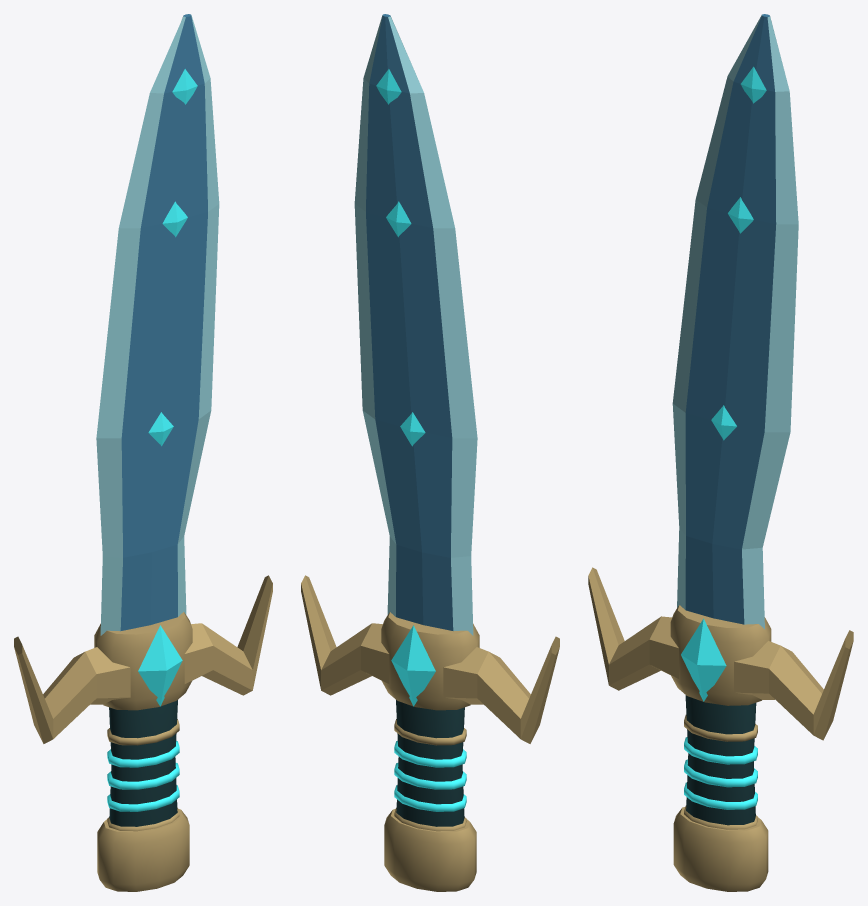
File: sword-rare.glb
3 renders of one model, left to right at view 1: azimuth 30°, elevation 25°; view 2: azimuth 150°, elevation 25°; view 3: azimuth 330°, elevation 25°, orthographic. The views are drawn at different scales.
Parts seen in each view (by area): view 1: Body; view 2: Body; view 3: Body.
Part boxes in pixels (bbox=[...]): Body: bbox=[14, 14, 272, 891]; Body: bbox=[301, 14, 559, 891]; Body: bbox=[588, 14, 853, 891].
Bounding box in the file's own units: 0.3937 × 1.28 × 0.1267.
